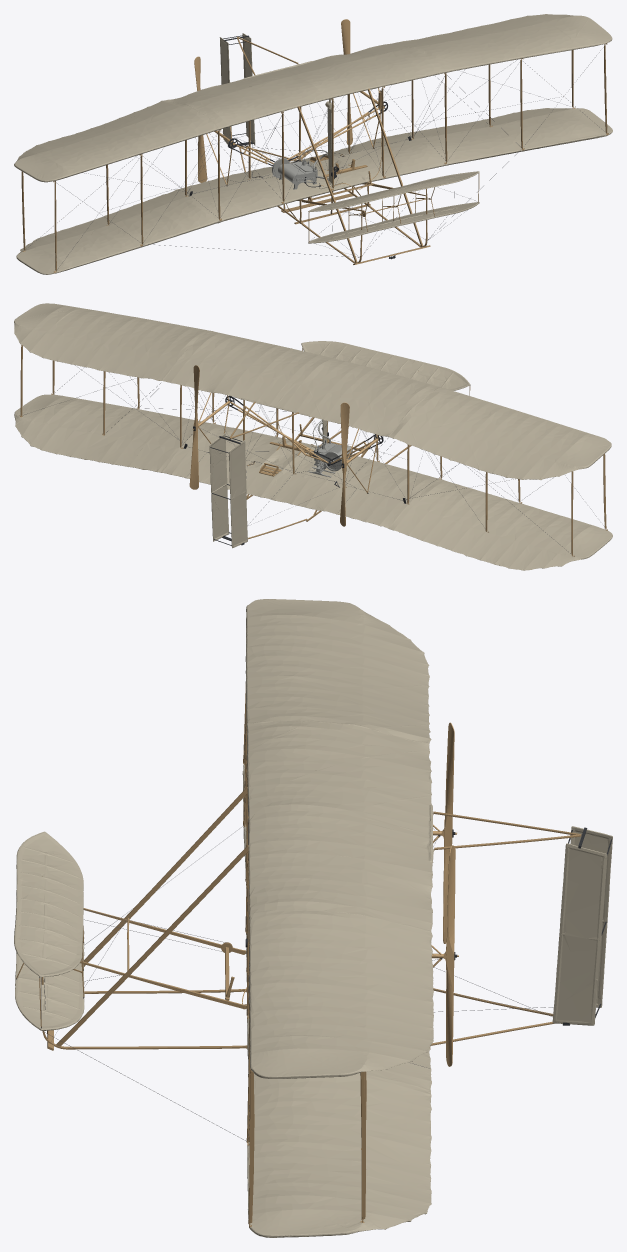
Rendered from flyer.glb.
3 views of the same model, one above another, from view 1: azimuth 30°, elevation 25°; view 2: azimuth 150°, elevation 25°; view 3: azimuth 270°, elevation 25° (orthographic). The views are drawn at different scales.
Parts seen in each view (by area): view 1: wings, frame, engine, propeller-right, propeller-left; view 2: wings, frame, engine, propeller-right, propeller-left; view 3: wings, frame, propeller-left, propeller-right.
Boxes of the visible parts, bbox=[...] form: wings: bbox=[14, 14, 612, 274]; frame: bbox=[25, 35, 604, 269]; engine: bbox=[272, 149, 328, 189]; propeller-right: bbox=[194, 56, 207, 182]; propeller-left: bbox=[341, 19, 352, 144]; wings: bbox=[14, 303, 612, 570]; frame: bbox=[23, 365, 604, 553]; engine: bbox=[308, 420, 352, 477]; propeller-right: bbox=[340, 402, 349, 526]; propeller-left: bbox=[189, 365, 199, 489]; wings: bbox=[14, 599, 612, 1237]; frame: bbox=[16, 718, 611, 1141]; propeller-left: bbox=[446, 845, 455, 1066]; propeller-right: bbox=[443, 722, 454, 943].
Size of the model in its own units: 12.29 by 2.79 by 6.42.
